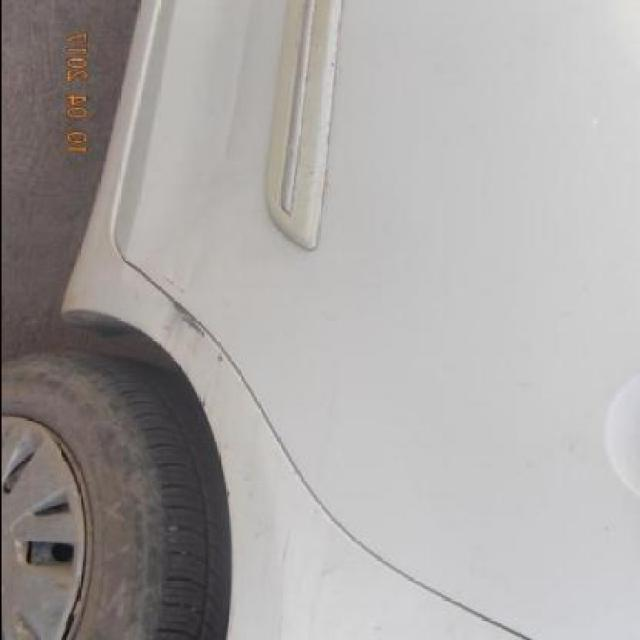damage: (196, 348, 226, 415), (170, 293, 207, 341)
